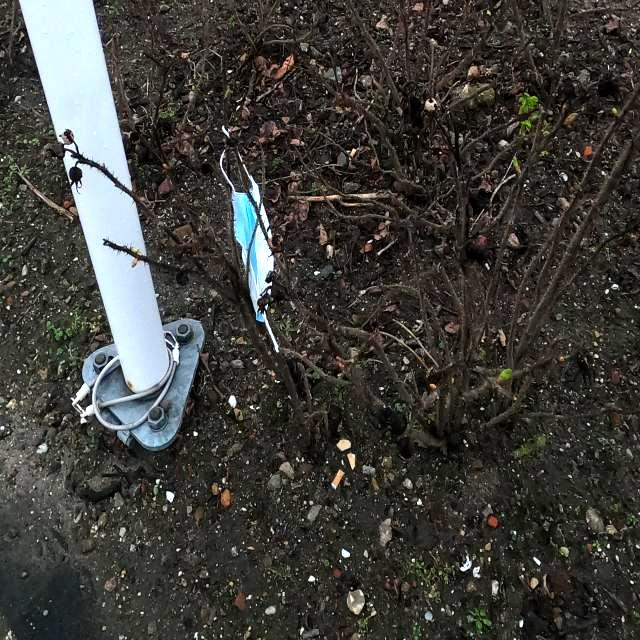Mask: (218, 127, 286, 339)
